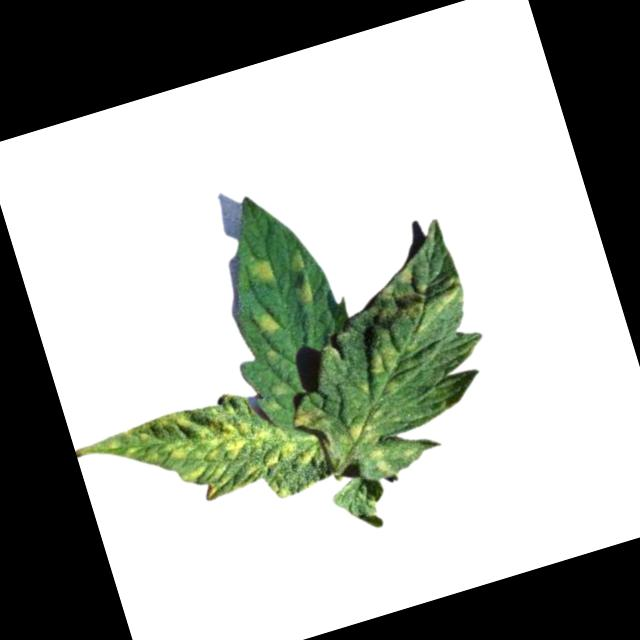Leaf_Mold: (83, 375, 333, 550), (356, 252, 469, 346), (343, 415, 399, 489), (363, 341, 407, 398), (281, 246, 320, 310), (252, 301, 284, 337), (248, 255, 275, 287)
